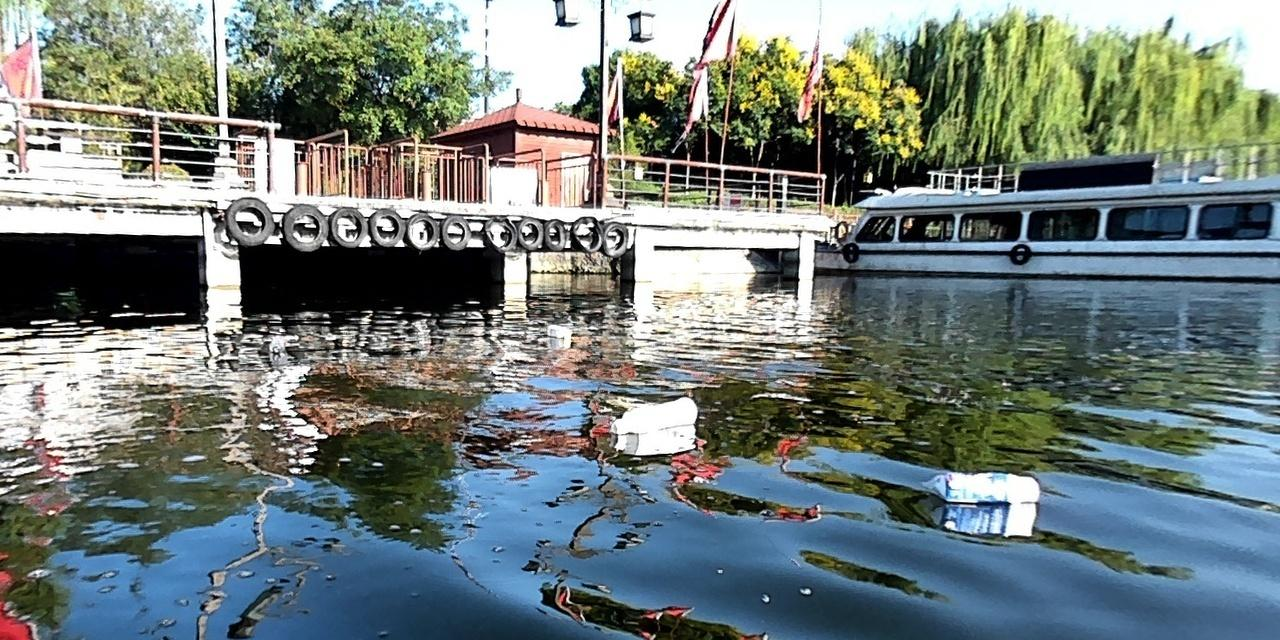bottle: (925, 466, 1044, 504), (609, 393, 700, 436)
